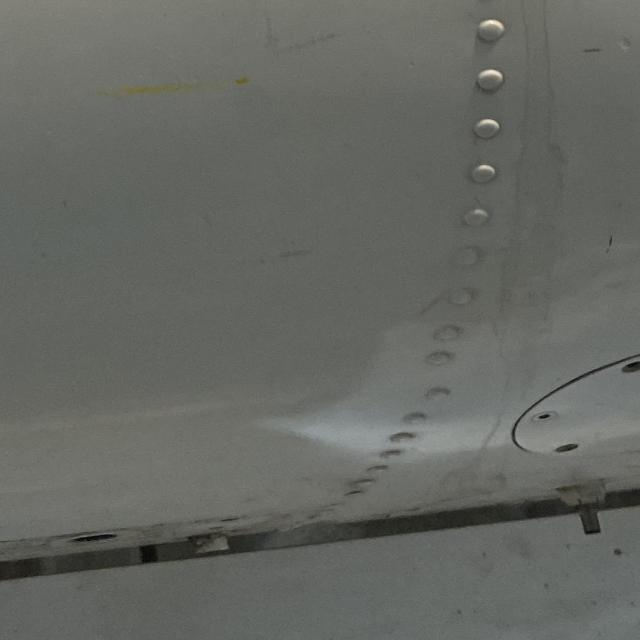Missing-head: (620, 361, 640, 377)
